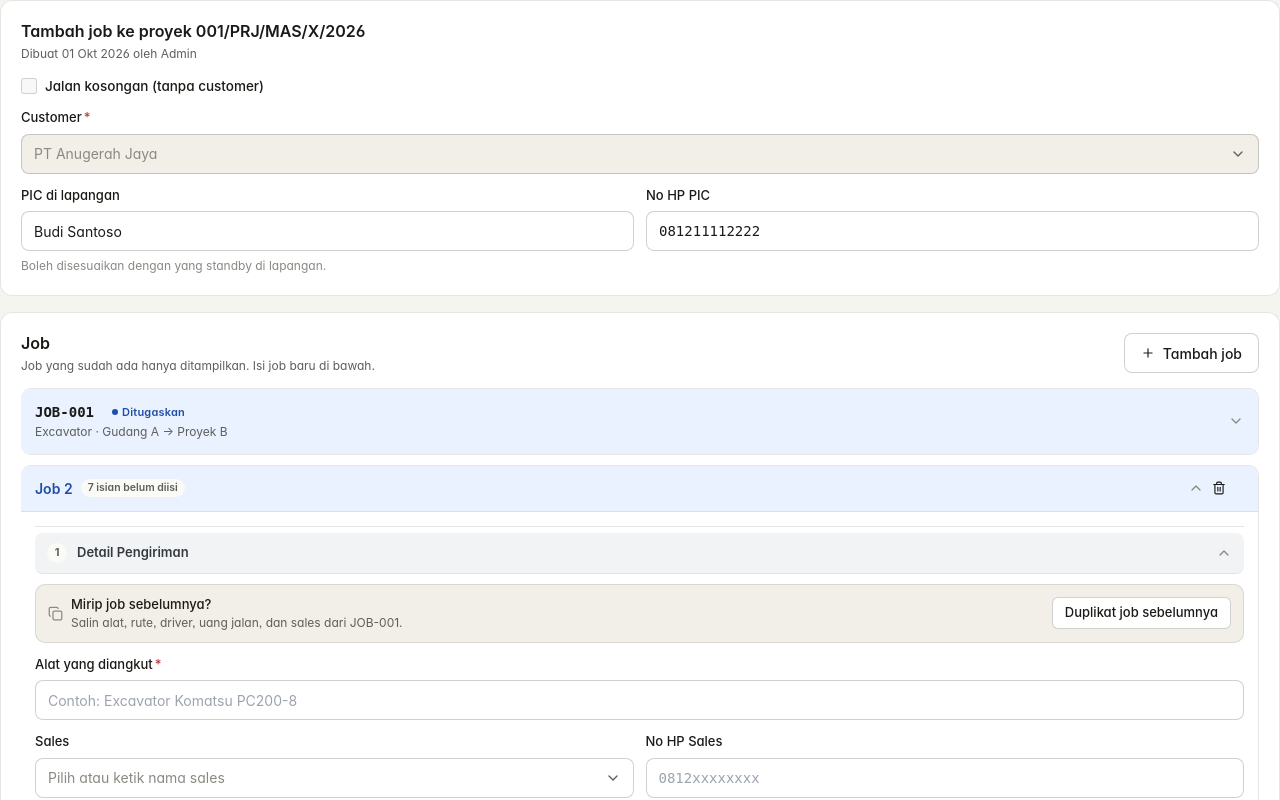
Edit proyek › accordion job tersimpan: detail pengiriman berlabel (alat, rute asal → tujuan, ETD/ETA)
The width and height of the screenshot is (1280, 800).
Click the button "JOB-001 Ditugaskan Excavator · Gudang A → Proyek B". click: (65, 412)
box: x1=35 y1=401 x2=1244 y2=441
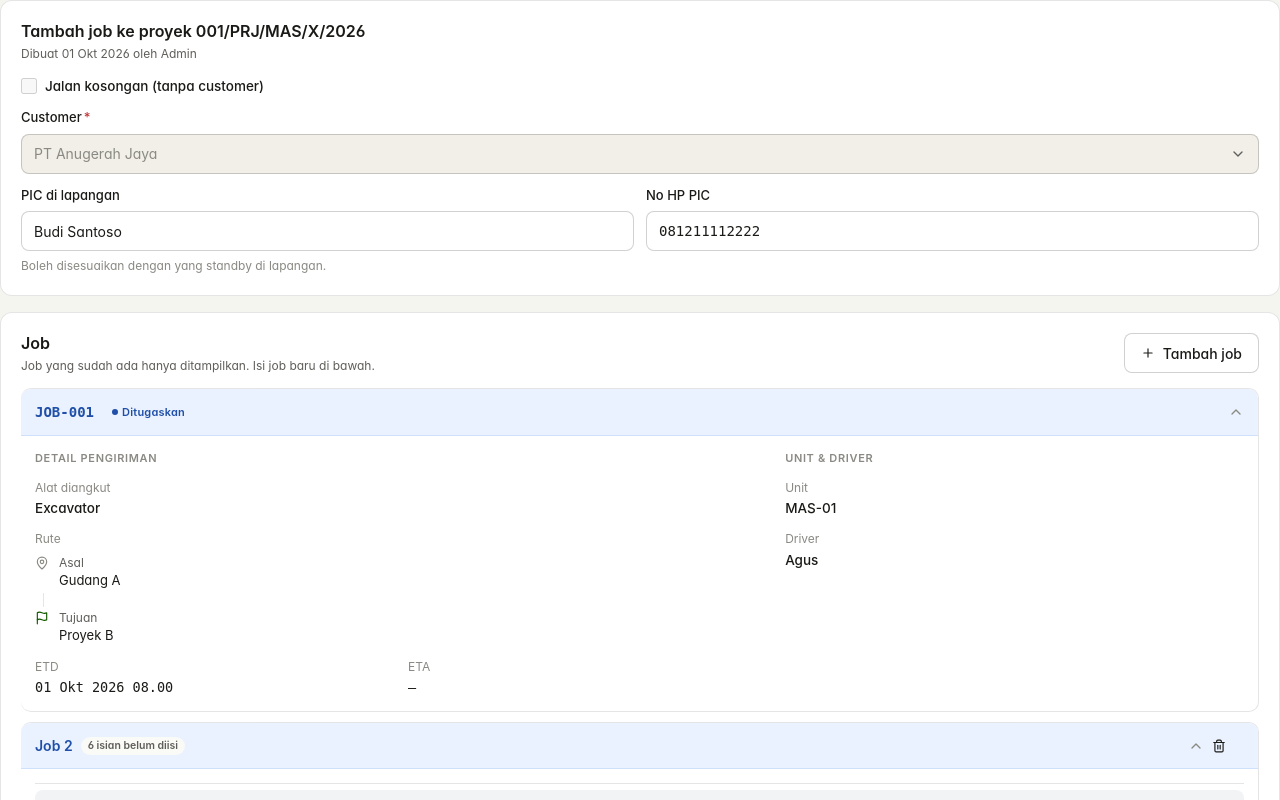
Expected: the text "Detail pengiriman" is shown, x1=35 y1=451 x2=157 y2=465
Expected: the text "Alat diangkut" is shown, x1=35 y1=480 x2=110 y2=495
Expected: the text "Rute" is shown, x1=35 y1=531 x2=61 y2=546
